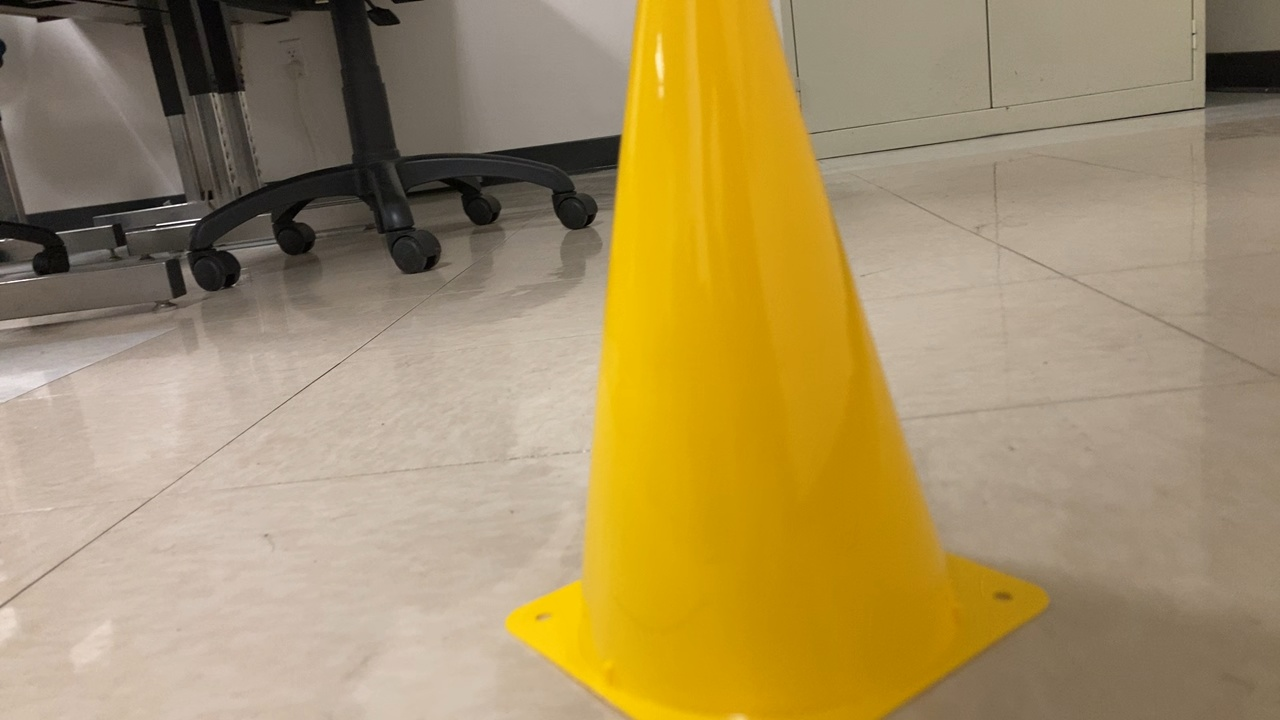yellow_cone: (501, 3, 1060, 720)
